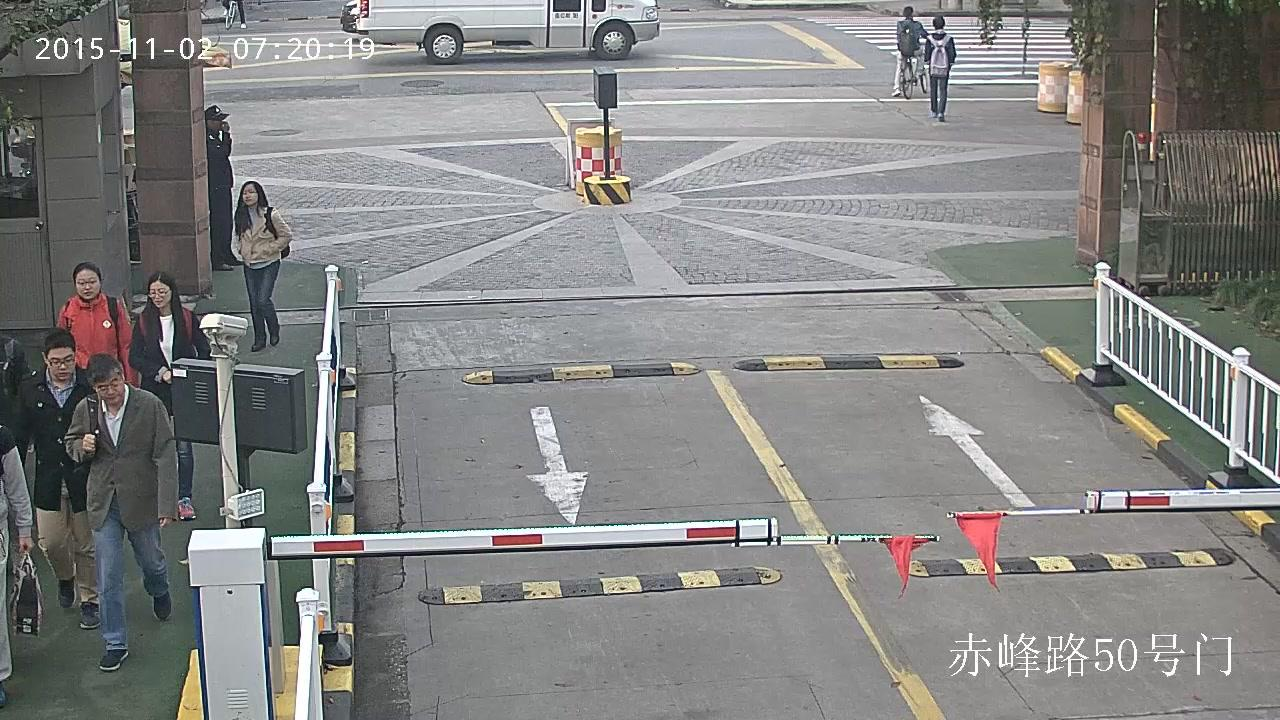person: (64, 352, 179, 670), (11, 326, 101, 629), (128, 270, 211, 520), (0, 423, 45, 709), (54, 260, 140, 390), (230, 180, 292, 351), (204, 105, 245, 272), (0, 329, 29, 468), (891, 6, 929, 100), (923, 15, 956, 121), (891, 5, 928, 97), (222, 0, 246, 29)
